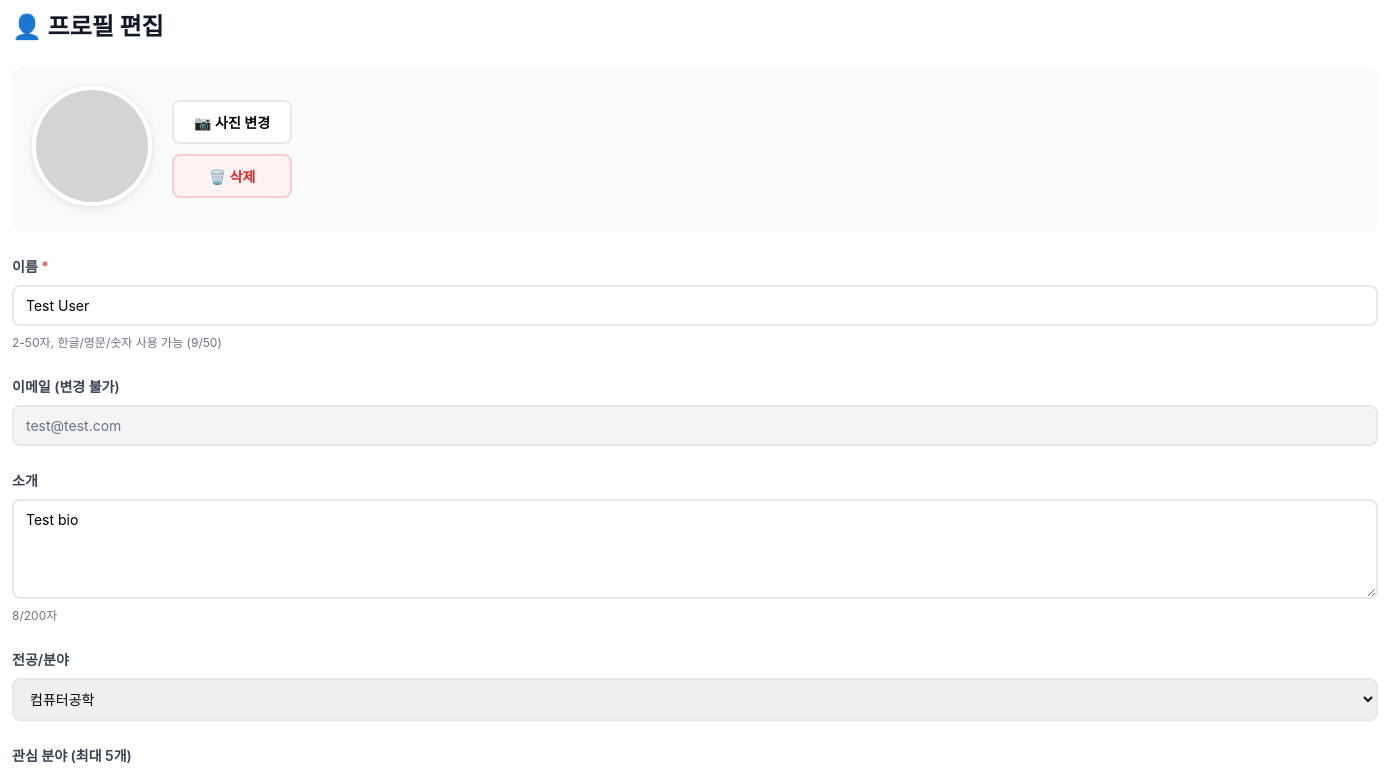
Scenario: ProfileEdit Component › 아바타 테스트 › 아바타 삭제 성공
Click the button "🗑️ 삭제". click: (232, 176)
box: [172,154,292,198]
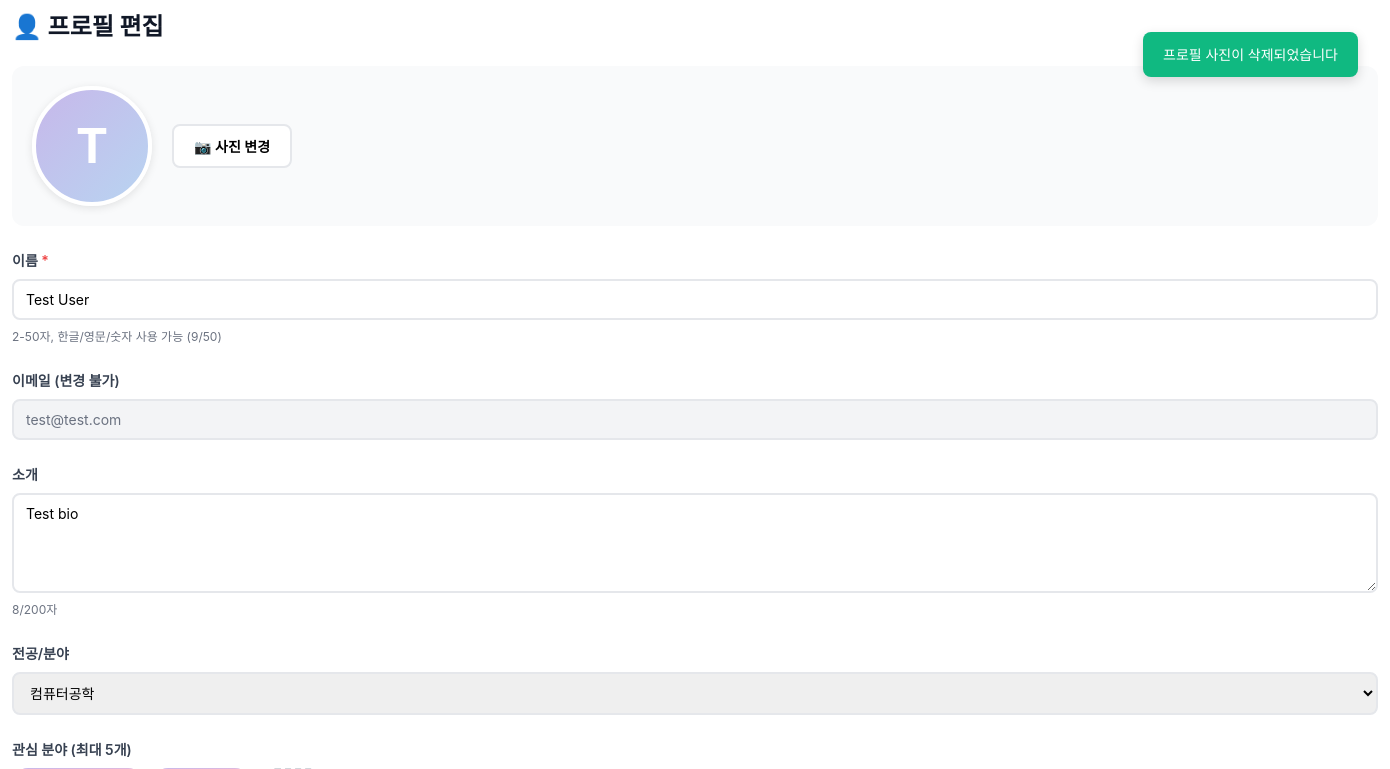
Now the text "프로필 사진이 삭제되었습니다" is shown, box [1143,32,1358,77]
